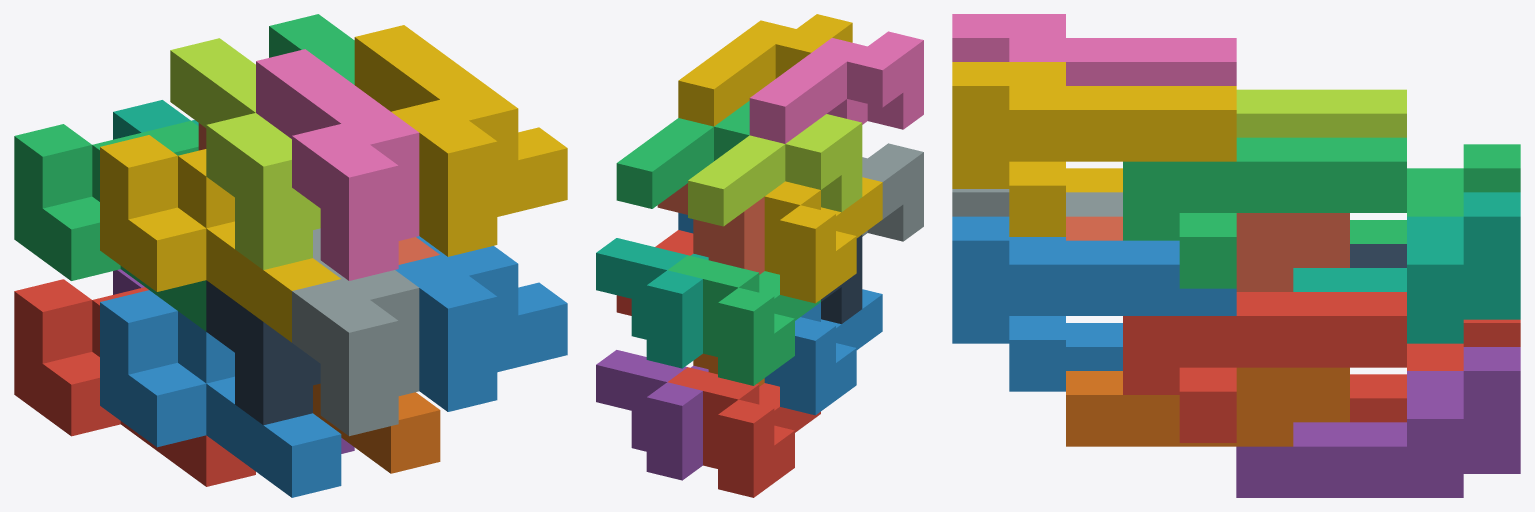
File: tiling.obj
3 renders of one model, left to right at view 1: azimuth 30°, elevation 25°; view 2: azimuth 150°, elevation 25°; view 3: azimuth 270°, elevation 25°, orthographic. The views are drawn at different scales.
Visible parts, largest first — view 1: copy_2_domain_8, copy_1_domain_2, copy_2_domain_4, copy_1_domain_4, copy_2_domain_6, copy_2_domain_3, copy_2_domain_2, copy_1_domain_1, copy_1_domain_3, copy_2_domain_1, copy_1_domain_6, copy_2_domain_7 (+3 smaller); view 2: copy_2_domain_4, copy_2_domain_3, copy_1_domain_3, copy_1_domain_4, copy_1_domain_1, copy_1_domain_7, copy_1_domain_5, copy_2_domain_8, copy_1_domain_2, copy_2_domain_7, copy_2_domain_2, copy_1_domain_8 (+3 smaller); view 3: copy_2_domain_8, copy_2_domain_6, copy_1_domain_5, copy_2_domain_7, copy_2_domain_5, copy_1_domain_7, copy_1_domain_6, copy_2_domain_4, copy_1_domain_8, copy_2_domain_3, copy_1_domain_3, copy_1_domain_1 (+4 smaller).
Part boxes in pixels (x1,y1,x2,y2): copy_2_domain_8: (354, 25, 567, 256); copy_1_domain_2: (100, 290, 341, 497); copy_2_domain_4: (256, 49, 419, 280); copy_1_domain_4: (100, 135, 340, 342); copy_2_domain_6: (395, 236, 567, 411); copy_2_domain_3: (170, 38, 320, 269); copy_2_domain_2: (292, 228, 419, 436); copy_1_domain_1: (14, 279, 255, 486); copy_1_domain_3: (14, 121, 206, 331); copy_2_domain_1: (206, 280, 320, 425); copy_1_domain_6: (313, 383, 440, 473); copy_2_domain_7: (269, 14, 354, 84); copy_2_domain_4: (749, 31, 923, 143); copy_2_domain_3: (688, 114, 862, 226); copy_1_domain_3: (667, 255, 820, 385); copy_1_domain_4: (764, 177, 882, 303); copy_1_domain_1: (667, 367, 820, 497); copy_1_domain_7: (596, 238, 708, 368); copy_1_domain_5: (596, 350, 708, 480); copy_2_domain_8: (678, 14, 852, 126); copy_1_domain_2: (764, 289, 882, 415); copy_2_domain_7: (616, 101, 749, 208); copy_2_domain_2: (862, 143, 923, 241); copy_1_domain_8: (657, 183, 764, 274); copy_2_domain_8: (952, 62, 1236, 236); copy_2_domain_6: (952, 216, 1236, 391); copy_1_domain_5: (1236, 347, 1520, 497); copy_2_domain_7: (1123, 137, 1406, 288); copy_2_domain_5: (1123, 292, 1406, 442); copy_1_domain_7: (1293, 192, 1520, 343); copy_1_domain_6: (1066, 367, 1349, 446); copy_2_domain_4: (952, 14, 1236, 85); copy_1_domain_8: (1066, 213, 1349, 291); copy_2_domain_3: (1236, 89, 1406, 137); copy_1_domain_3: (1350, 144, 1520, 243); copy_1_domain_1: (1350, 319, 1520, 422).
Bounding box in the file's own units: 6 × 8 × 10.
